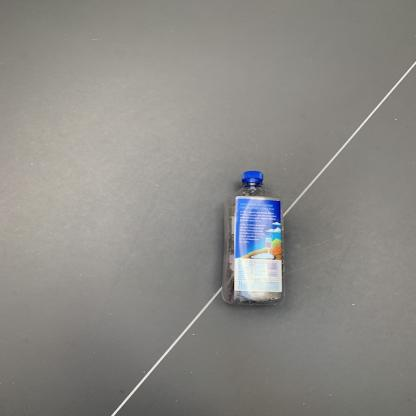trash: (221, 172, 284, 307)
